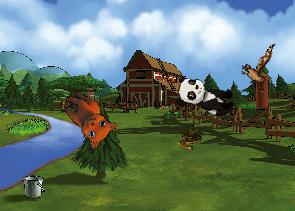bear: (51, 87, 121, 152)
eagle: (239, 44, 277, 92)
panda: (173, 74, 238, 119)
